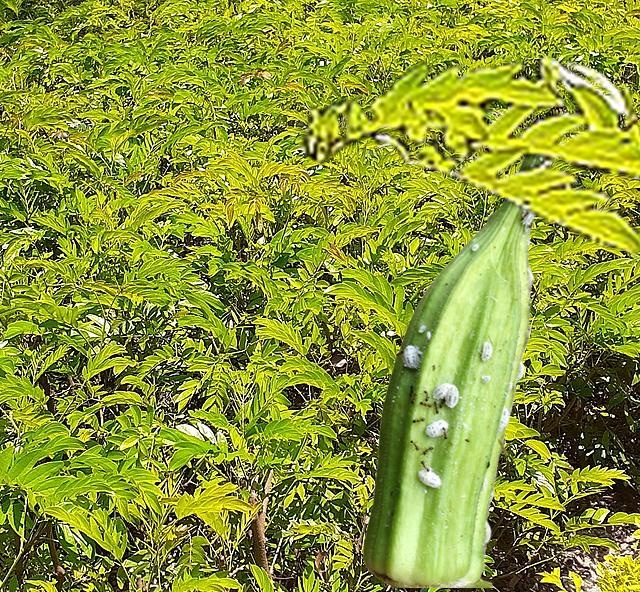okra: (363, 161, 535, 586)
